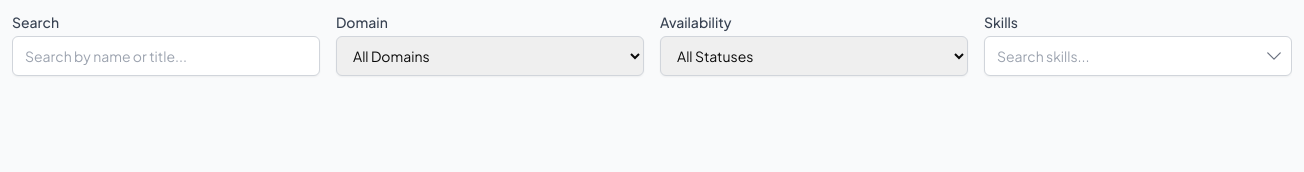
ProfileSearch › should fetch all available skills from API, not just profile-attached skills
This screenshot has width=1304, height=172.
Click on the skills input to open dropdown
Type "Python" into the field with placeholder "Search skills..." at (1138, 56), box [984,36,1292,76]
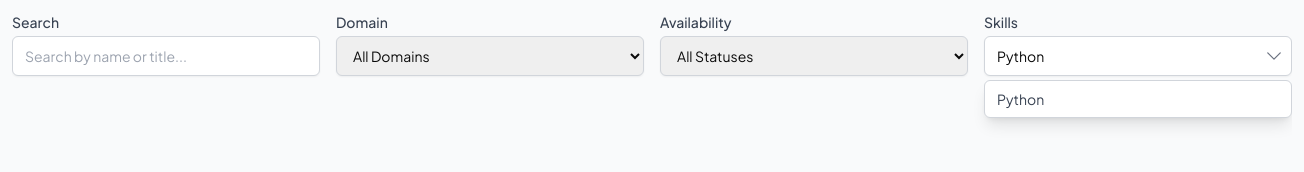
Check: the button "Python" is shown, box [985,81,1291,117]
React should also be available
Replace the text in the field with placeholder "Search skills..." with "React" at (1138, 56), box [984,36,1292,76]
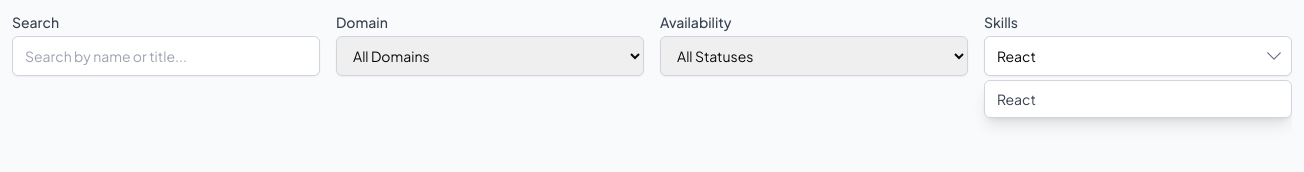
Check: the button "React" is shown, box [985,81,1291,117]
Machine Learning should also be available
Replace the text in the field with placeholder "Search skills..." with "Machine" at (1138, 56), box [984,36,1292,76]
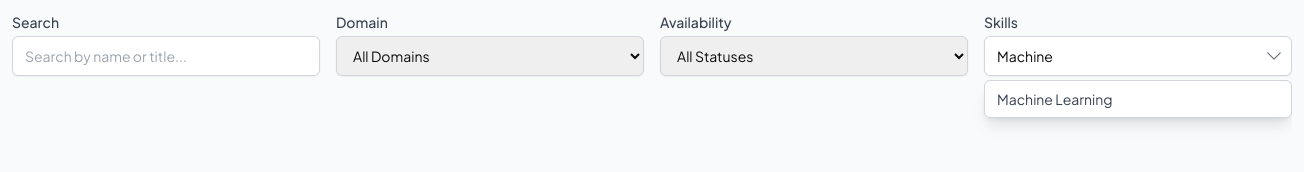
Check: the button "Machine Learning" is shown, box [985,81,1291,117]
